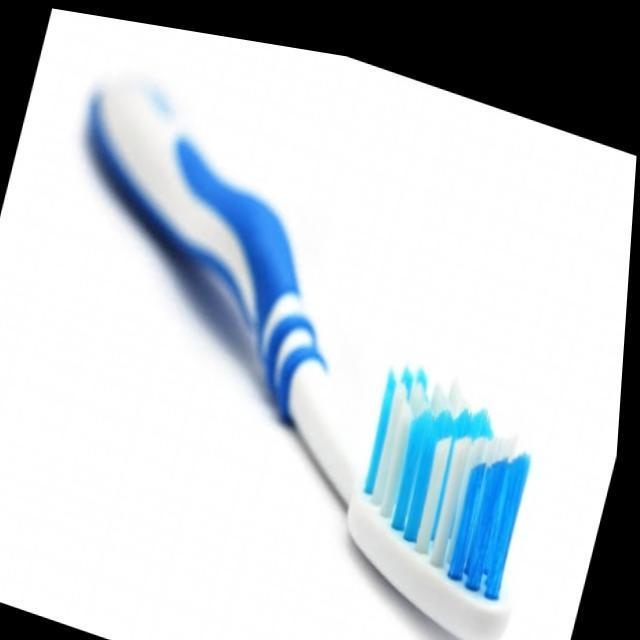toothbrush: (91, 70, 530, 630)
